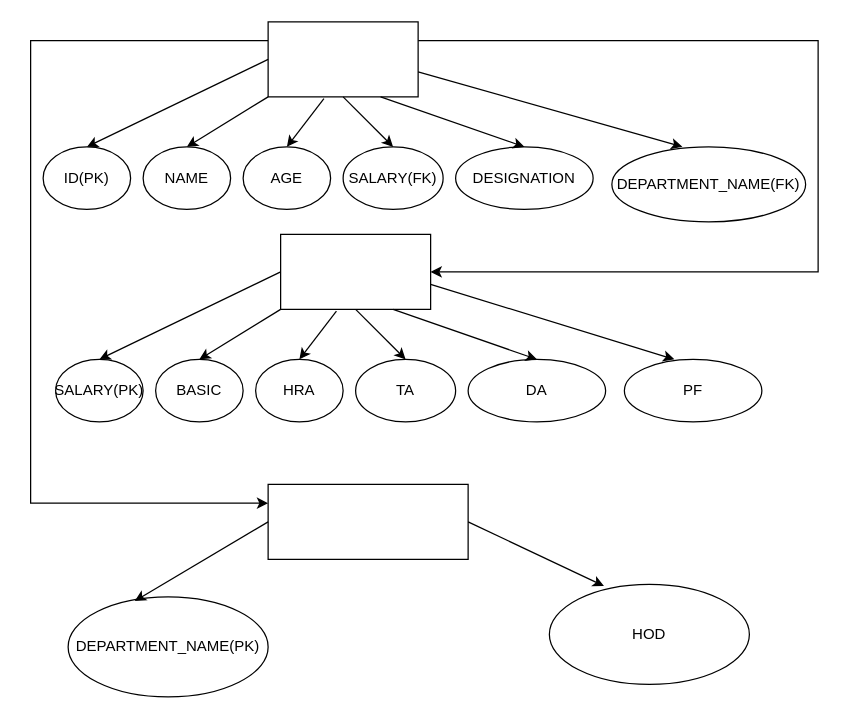
The diagram is 850 pixels wide and 719 high, and some of its shapes have lost their labels. Each missing label, with the box of its shape:
DEPARTMENT_TABLE: (267, 483, 468, 559)
EMPLOYEE: (267, 21, 418, 97)
SALARY_TABLE: (279, 233, 431, 309)
